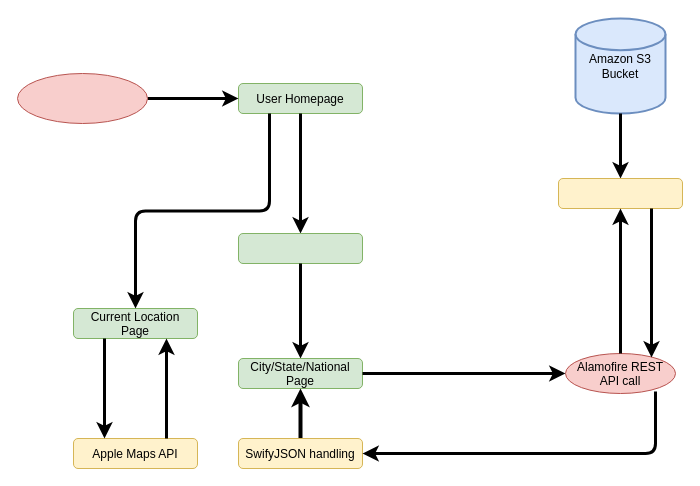
This 700x486 diagram has some shape labels left out. The shapes that lost their labels are listed below. From the top down, each one's centre as x and y in pixels, then its label:
At pixel 82 98: "User Opens App".
At pixel 620 193: "JSON Encoded Data".
At pixel 300 248: "User Favorites".
